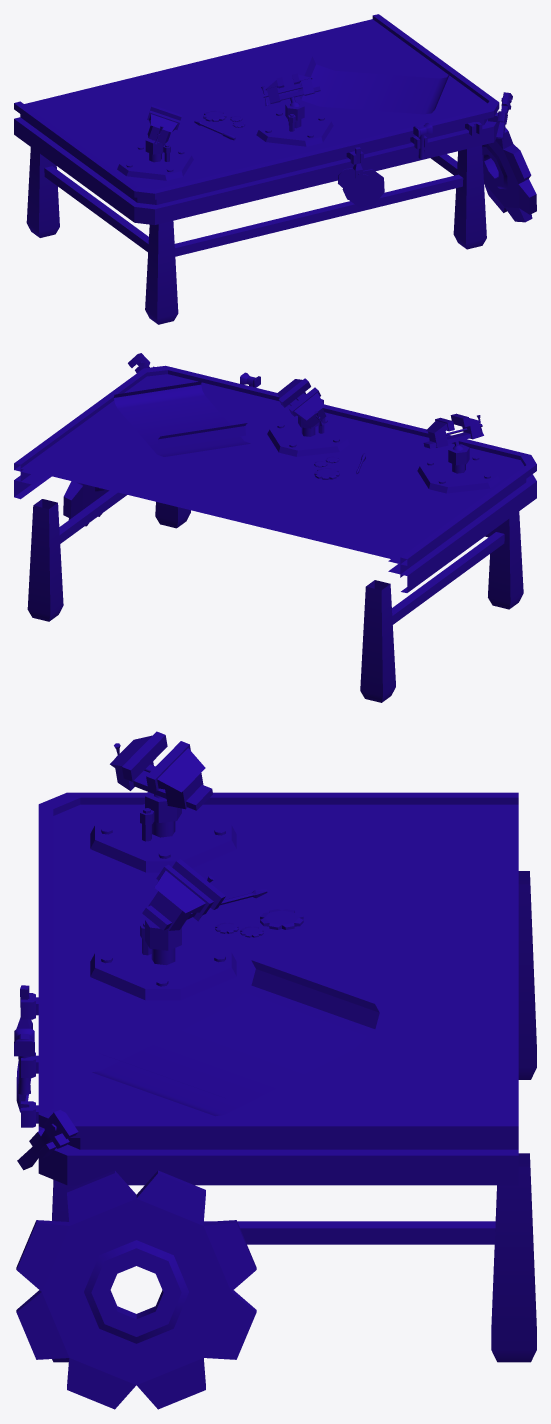
The model's file is CG_Model_TownInt_WorkTable_Mar24_ChrisMcknight.FBX.
3 views of the same model, one above another, from view 1: azimuth 30°, elevation 25°; view 2: azimuth 150°, elevation 25°; view 3: azimuth 270°, elevation 25° (orthographic). The views are drawn at different scales.
Visible parts, largest first — view 1: Box023; view 2: Box023; view 3: Box023.
Part boxes in pixels (x1,y1,x2,y2): Box023: (14,14,536,324); Box023: (14,353,536,702); Box023: (14,731,536,1409).
Size of the model in its own units: 54.07 by 24.34 by 32.62.
